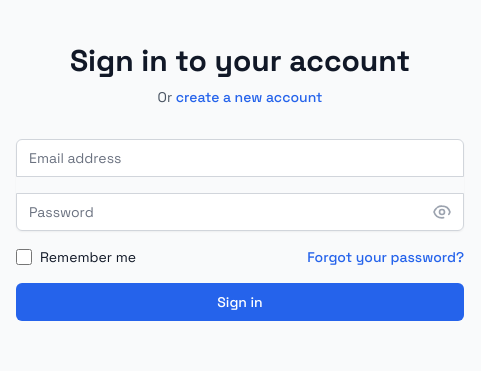
Test: LoginPage › shows error message when login fails
In the field with placeholder "Email address": (240,158) [16, 139, 464, 177], type "bad@example.com"
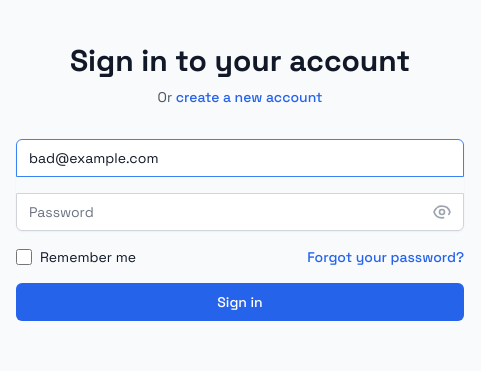
In the password field with placeholder "Password": (240,212) [16, 193, 464, 231], type "wrong"
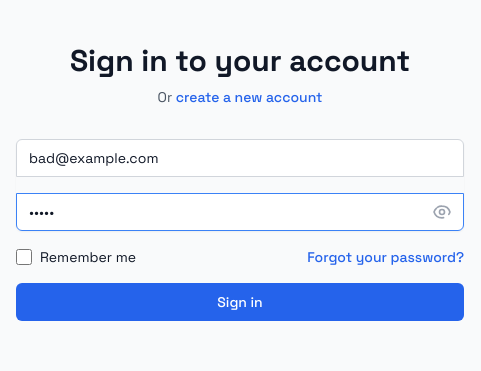
Click the button "Sign in": (240,302) [16, 283, 464, 321]
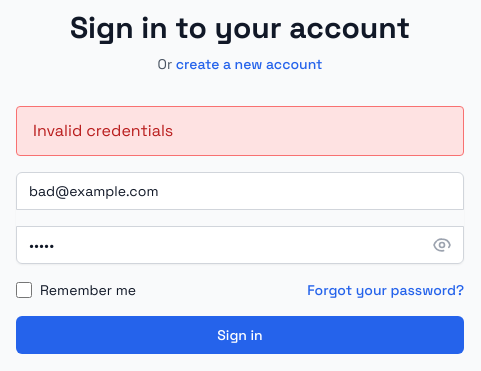
Expected: the text "Invalid credentials" is shown, [16, 106, 464, 156]
